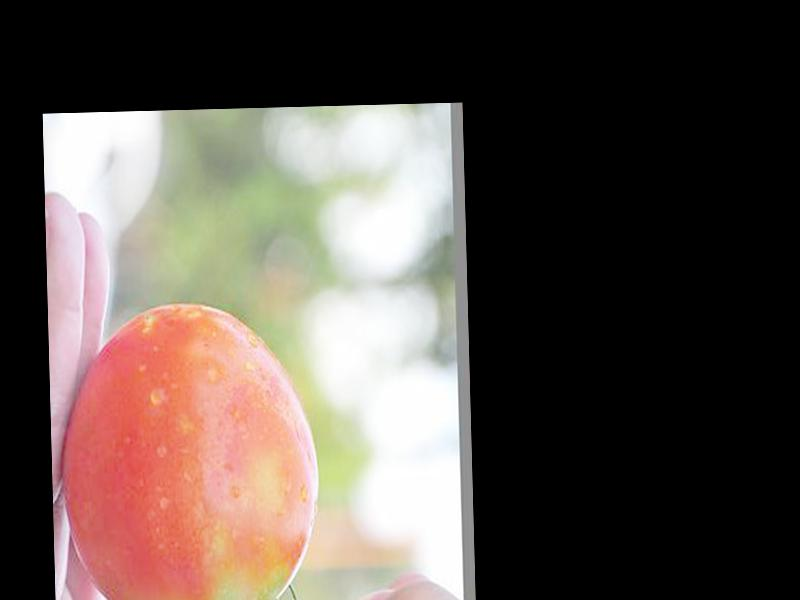Tomato: (61, 301, 322, 600)
